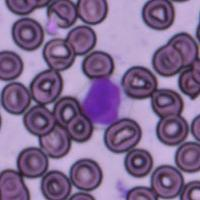L: (78, 76, 132, 128)
